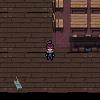Hide: (68, 33, 100, 53)
Obstacle: (48, 12, 69, 33), (69, 12, 88, 33), (48, 0, 69, 12), (69, 0, 88, 12), (89, 12, 100, 32), (89, 0, 100, 12)
Victim: (42, 39, 57, 61)
Win: (11, 74, 25, 92)
